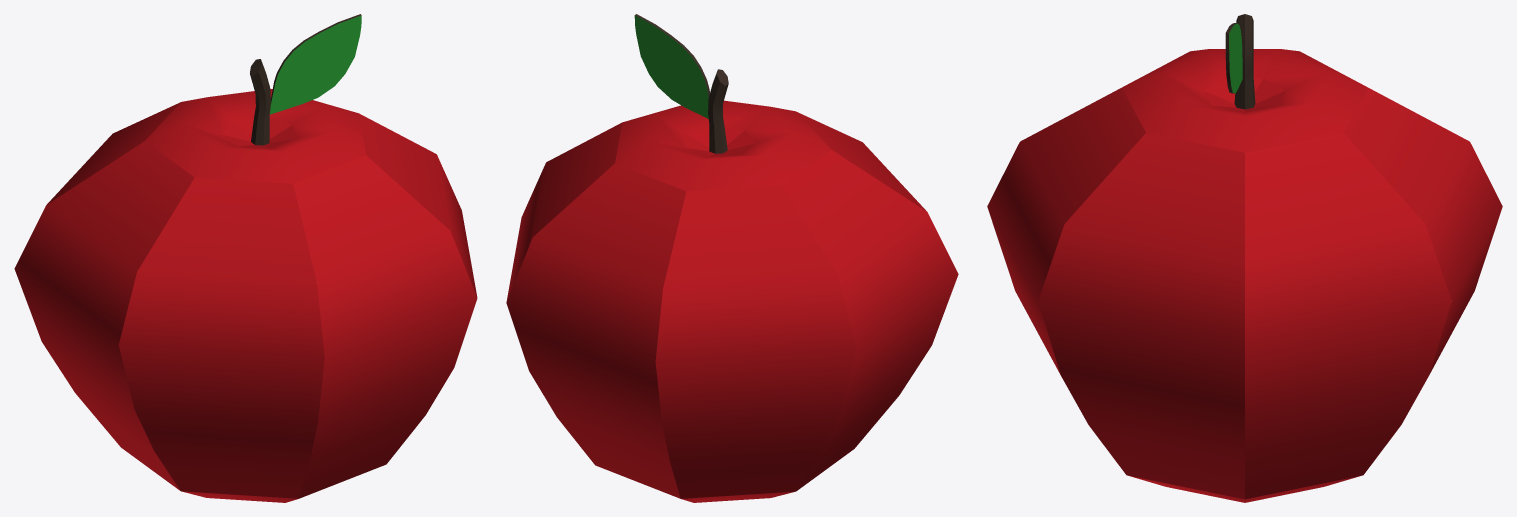
Rendered from redApple.fbx.
3 renders of one model, left to right at view 1: azimuth 30°, elevation 25°; view 2: azimuth 150°, elevation 25°; view 3: azimuth 270°, elevation 25°, orthographic. The views are drawn at different scales.
Visible parts, largest first — view 1: pCylinder2; view 2: pCylinder2; view 3: pCylinder2.
Boxes of the visible parts, left/top/right/bottom form: pCylinder2: left=14, top=14, right=477, bottom=502; pCylinder2: left=506, top=14, right=958, bottom=502; pCylinder2: left=987, top=14, right=1502, bottom=502.
Bounding box in the file's own units: 3.9 × 4.1 × 4.01.
Materials: 1 (1 with a texture image).
